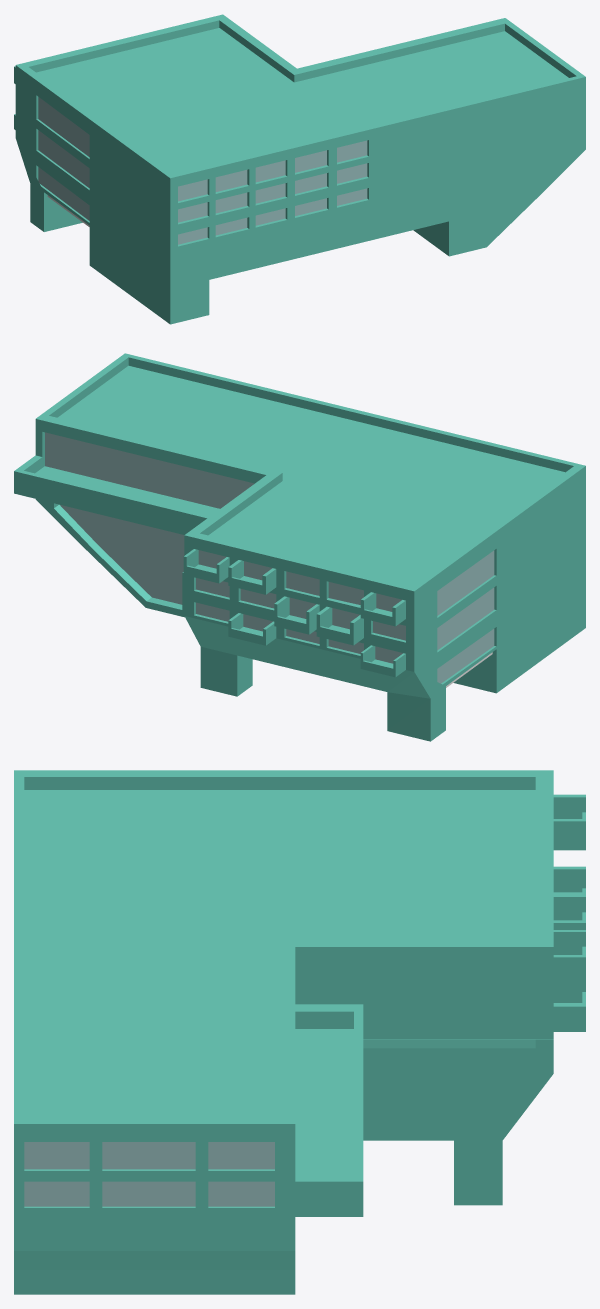
File: campus_big.obj
3 renders of one model, top to bottom at view 1: azimuth 30°, elevation 25°; view 2: azimuth 150°, elevation 25°; view 3: azimuth 270°, elevation 25°, orthographic. The views are drawn at different scales.
Parts seen in each view (by area): view 1: Boole; view 2: Boole; view 3: Boole.
Boxes of the visible parts, x1=… form: Boole: x1=14, y1=14, x2=585, y2=324; Boole: x1=14, y1=353, x2=585, y2=741; Boole: x1=14, y1=770, x2=585, y2=1294.
Size of the model in its own units: 595 by 203 by 407.
